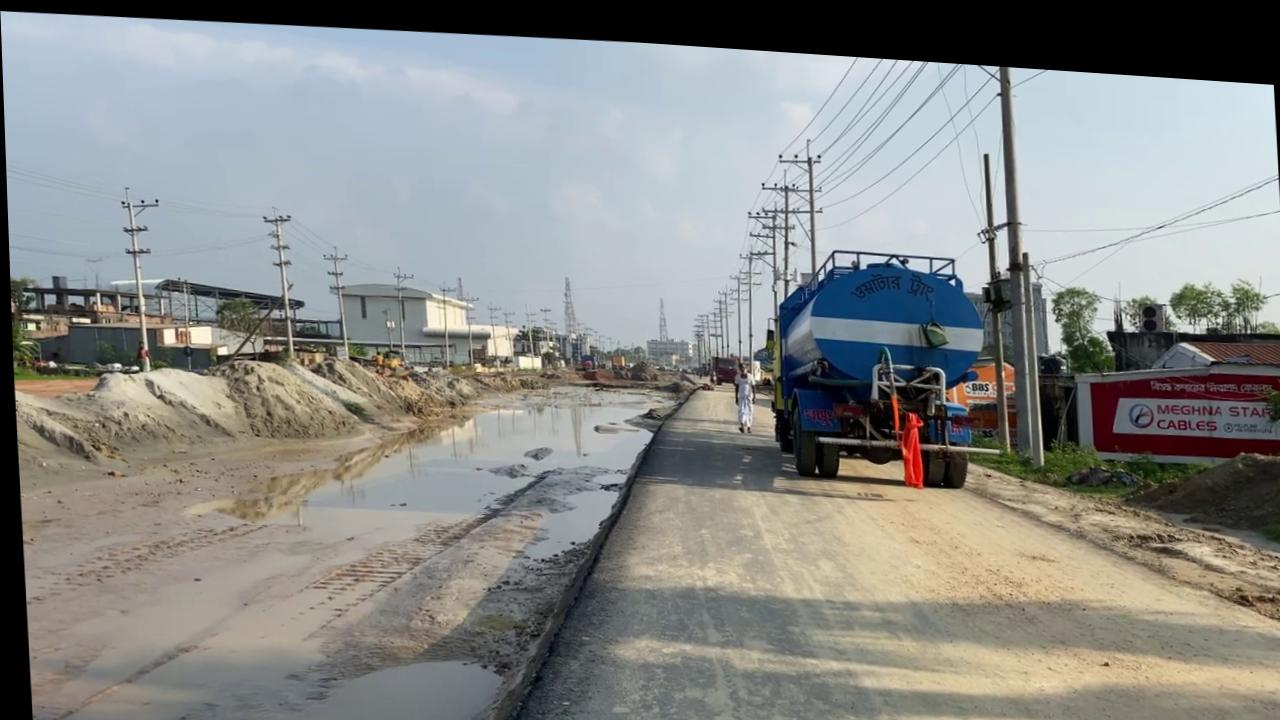Curb: (447, 354, 721, 720)
Obstacle: (762, 230, 996, 481)
Pole: (994, 52, 1041, 452), (978, 138, 1007, 437)
Rickshaw: (466, 343, 1280, 720)
Sidewalk: (12, 340, 700, 720)
Traffic-light: (1076, 342, 1280, 451)
Traffic-sign: (1047, 268, 1106, 361)
Tree: (370, 343, 403, 369), (383, 350, 401, 364)
